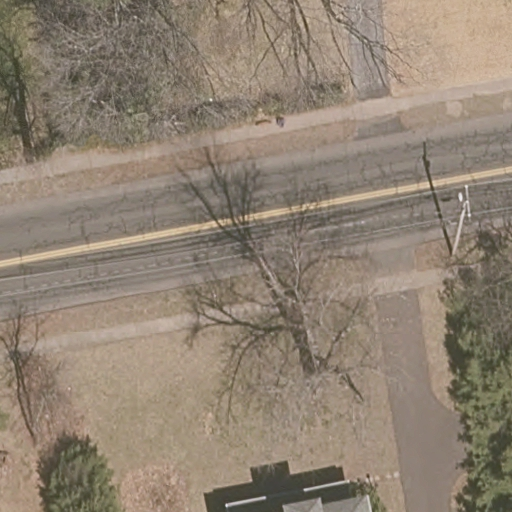DT: (448, 184, 472, 256)
